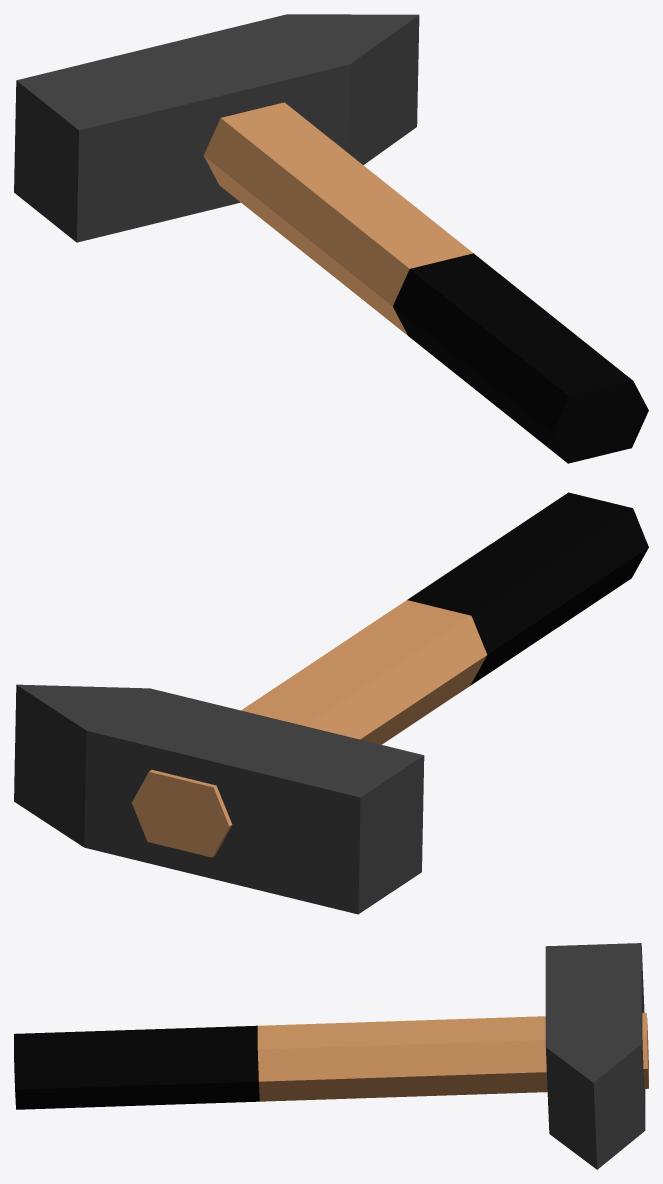
File: Hammer.fbx
The picture shows the model from 3 angles, top to bottom: view 1: azimuth 30°, elevation 25°; view 2: azimuth 150°, elevation 25°; view 3: azimuth 270°, elevation 25°; orthographic projection. The views are drawn at different scales.
Parts seen in each view (by area): view 1: Cylinder; view 2: Cylinder; view 3: Cylinder.
Part boxes in pixels (bbox=[...]): Cylinder: bbox=[14, 14, 648, 463]; Cylinder: bbox=[14, 492, 648, 914]; Cylinder: bbox=[14, 943, 648, 1169].
Size of the model in its own units: 17.07 by 5.18 by 33.09.
